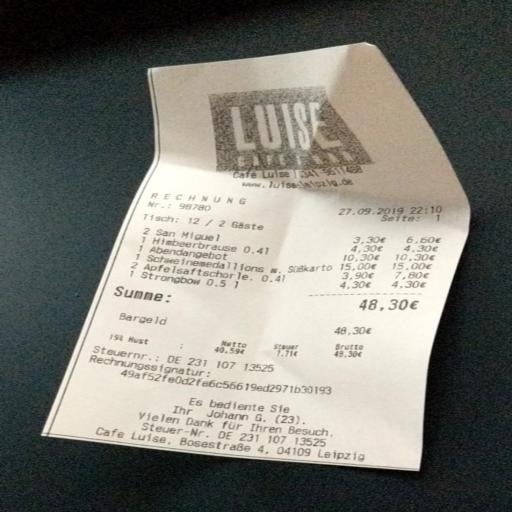paper: (28, 5, 470, 512)
